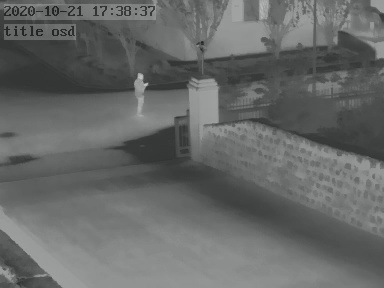person: (133, 69, 147, 112)
